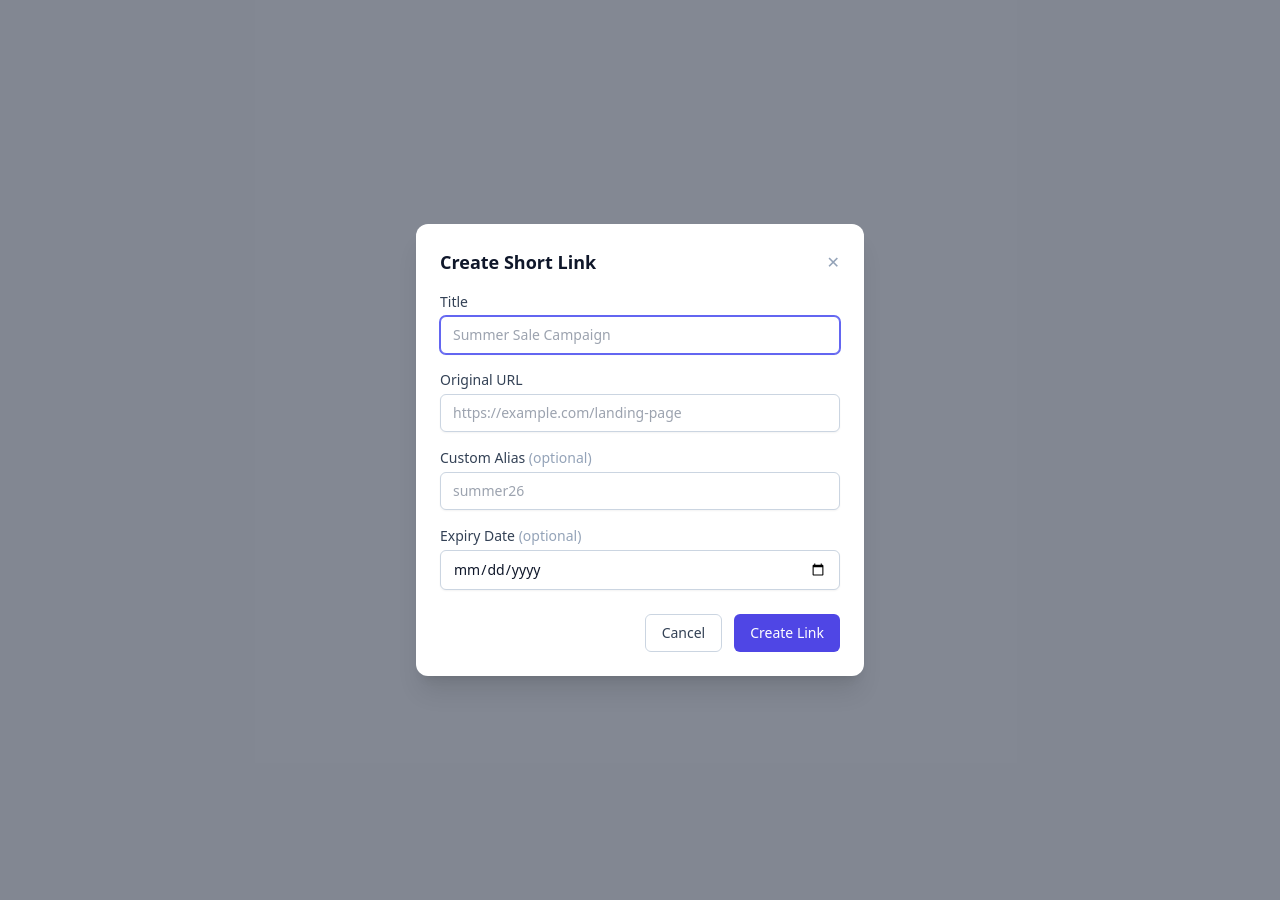
Scenario: LinkFormModal › shows a validation error for a missing title
This screenshot has width=1280, height=900.
Type "https://example.com" into the field labelled "Original URL" at [640, 413], box [440,394,840,432]
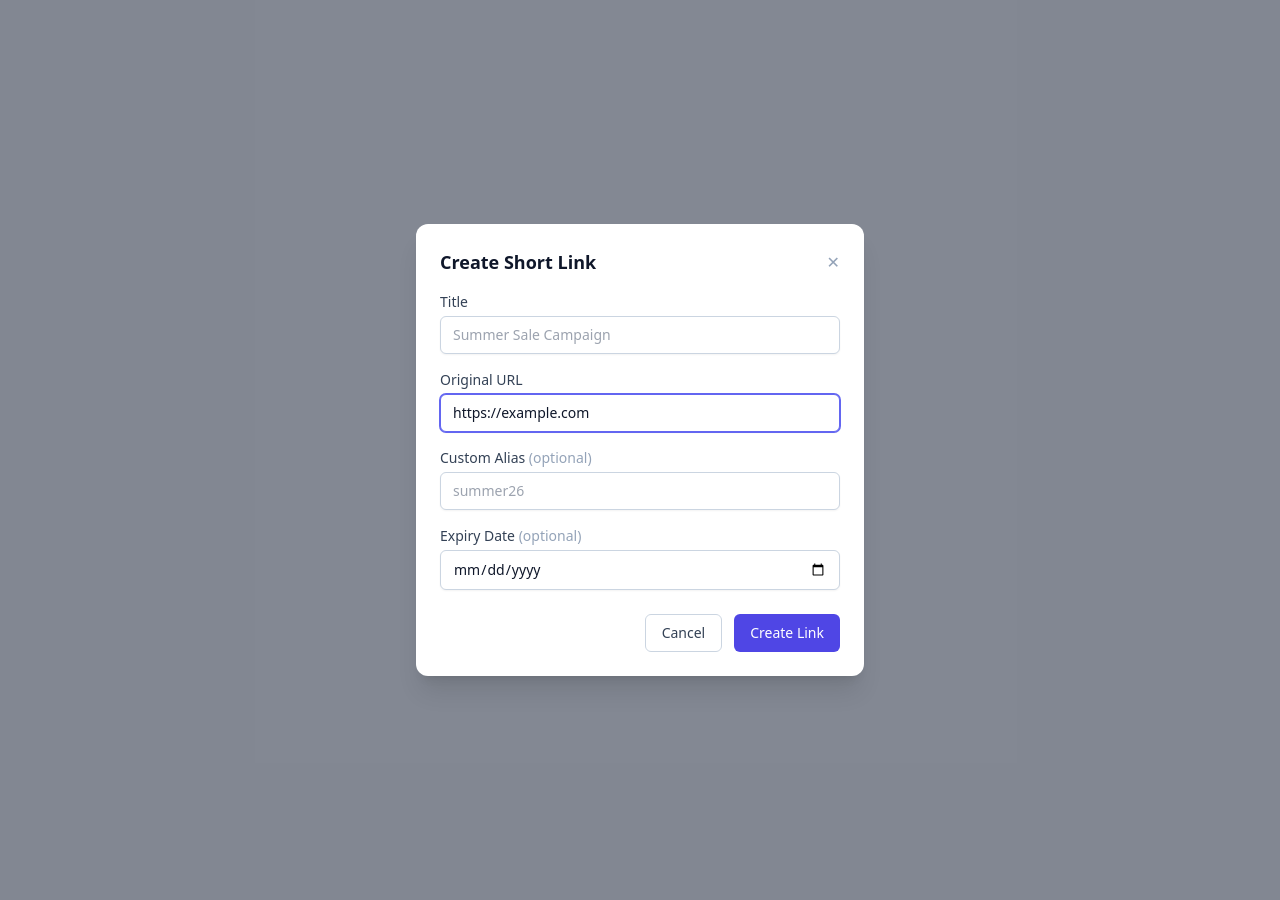
Click the button "Create Link" at [787, 633], box [734,614,840,652]
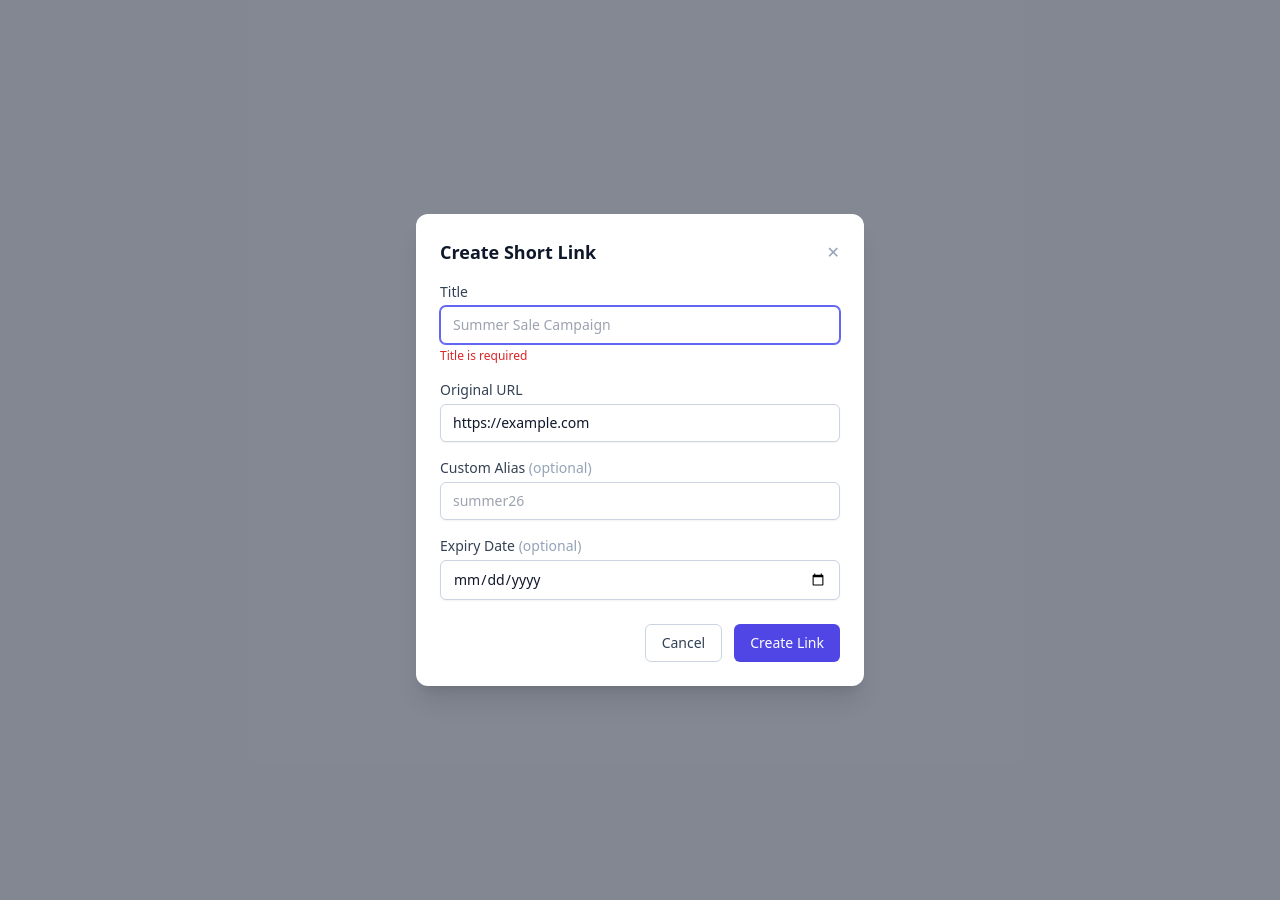
Now the text "Title is required" is shown, box [440,347,527,364]
